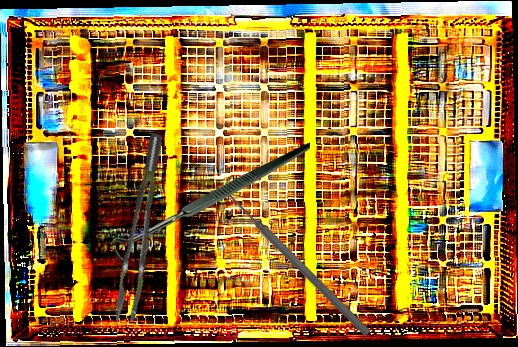Hook Surgical: (114, 142, 310, 268)
Pusher: (219, 184, 373, 339)
Tissue Forceps: (96, 132, 188, 326)
